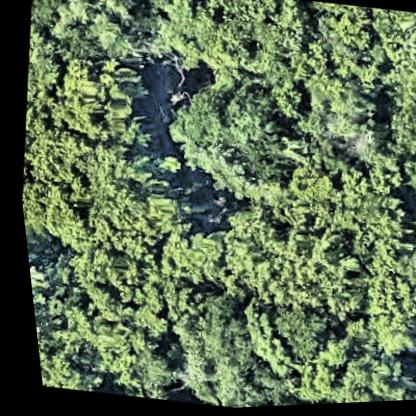tree-top: (36, 144, 186, 267), (149, 0, 315, 95), (166, 72, 297, 191), (146, 285, 261, 412), (32, 41, 150, 156), (286, 64, 385, 154), (332, 268, 416, 368), (145, 218, 225, 293), (252, 297, 323, 366)
